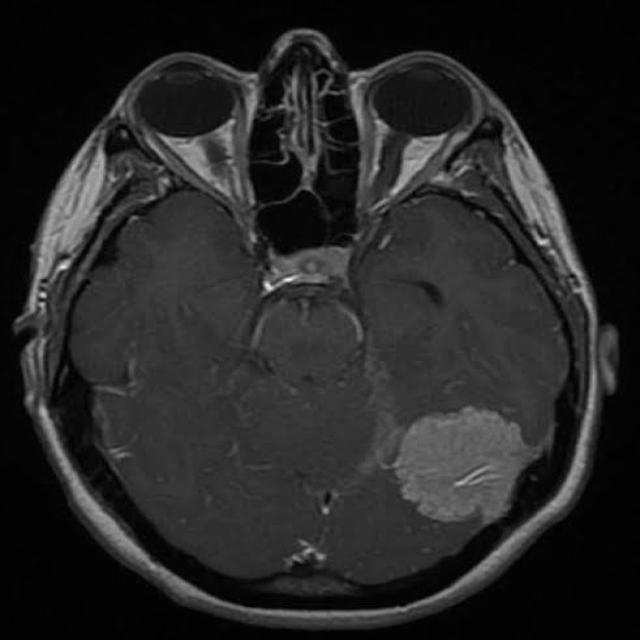brain_tumor: (392, 406, 540, 526)
